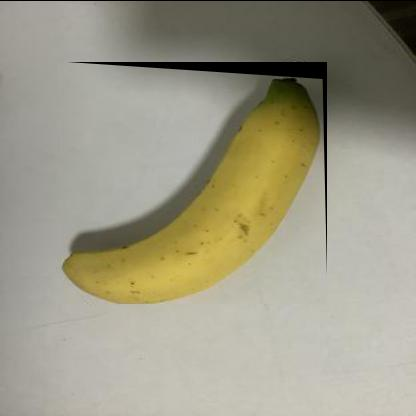bananarotation: (57, 60, 328, 303)
